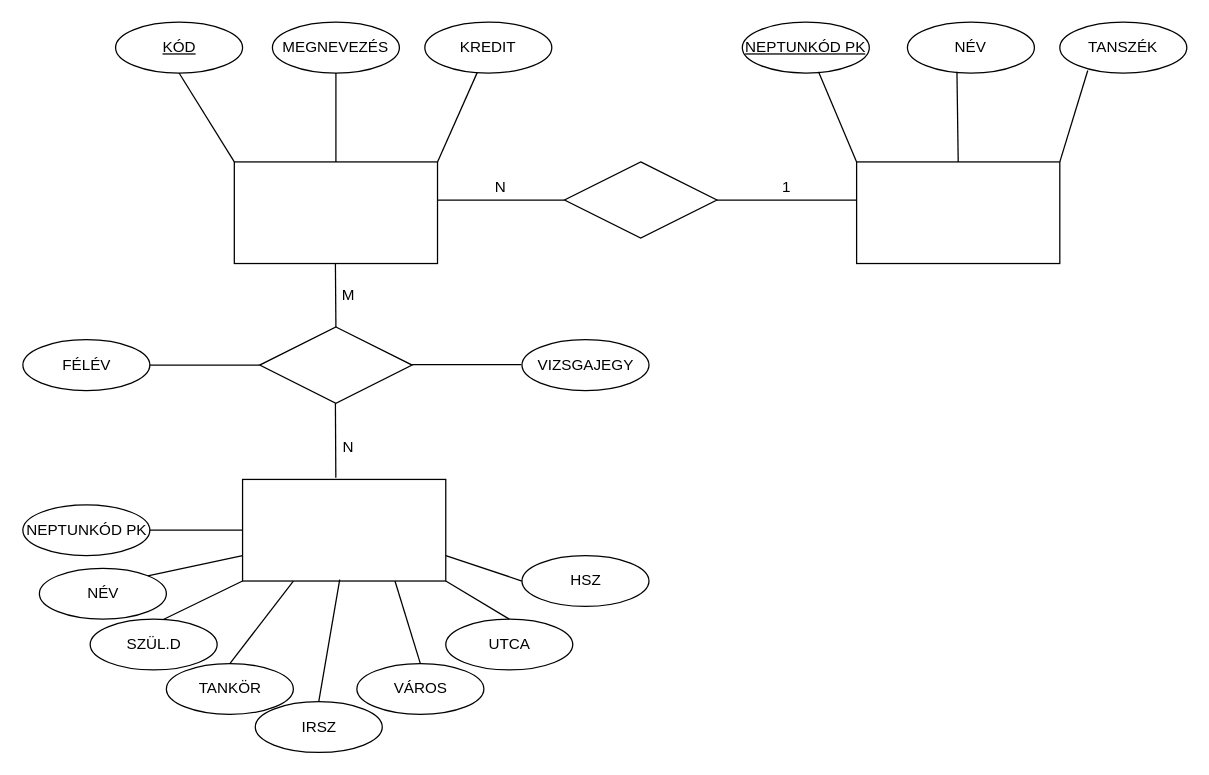
Some shapes in this 1209 by 775 pixel diagram are drawn without their labels. The box of each missing label's shape, as (x1, y1, x2, y2) in pixels:
HALLGAT: (258, 326, 412, 403)
HALLGATÓ: (241, 478, 446, 581)
OKTAT: (563, 161, 717, 238)
OKTATÓ: (855, 161, 1060, 264)
TÁRGY: (233, 161, 438, 264)
